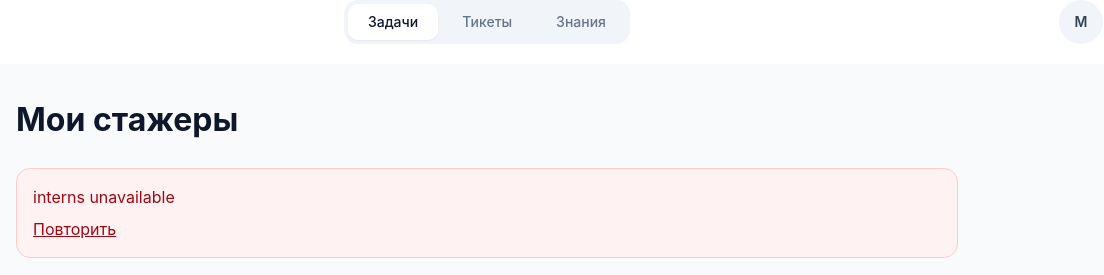
Test: retries a failed interns request
The width and height of the screenshot is (1104, 275).
Expected: the text "interns unavailable" is shown, [33,187,175,207]
Click the button "Повторить" at (75, 229), box [33,217,116,241]
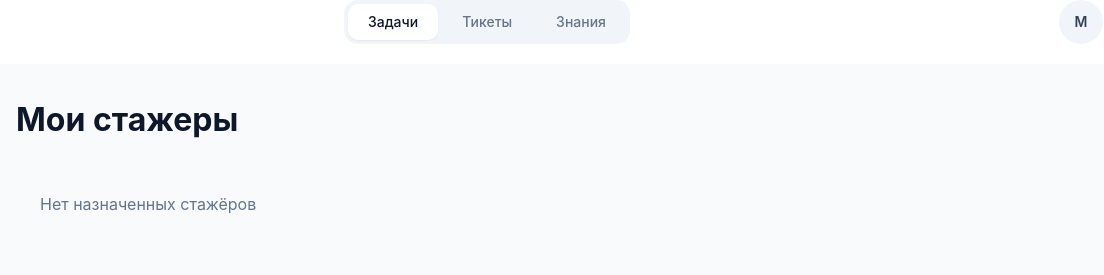
Now the text "Нет назначенных стажёров" is shown, box [40,194,256,214]
